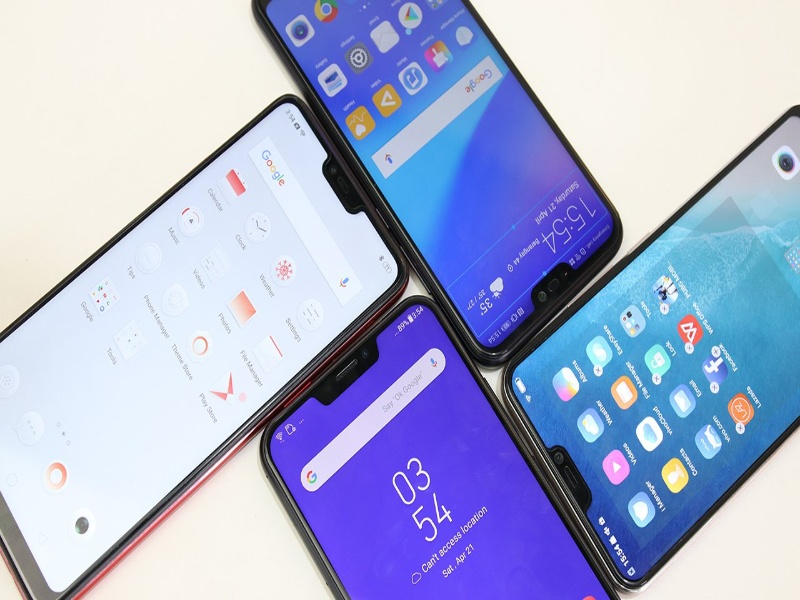cellphone: (1, 134, 405, 596), (499, 83, 800, 572), (244, 1, 617, 328)
